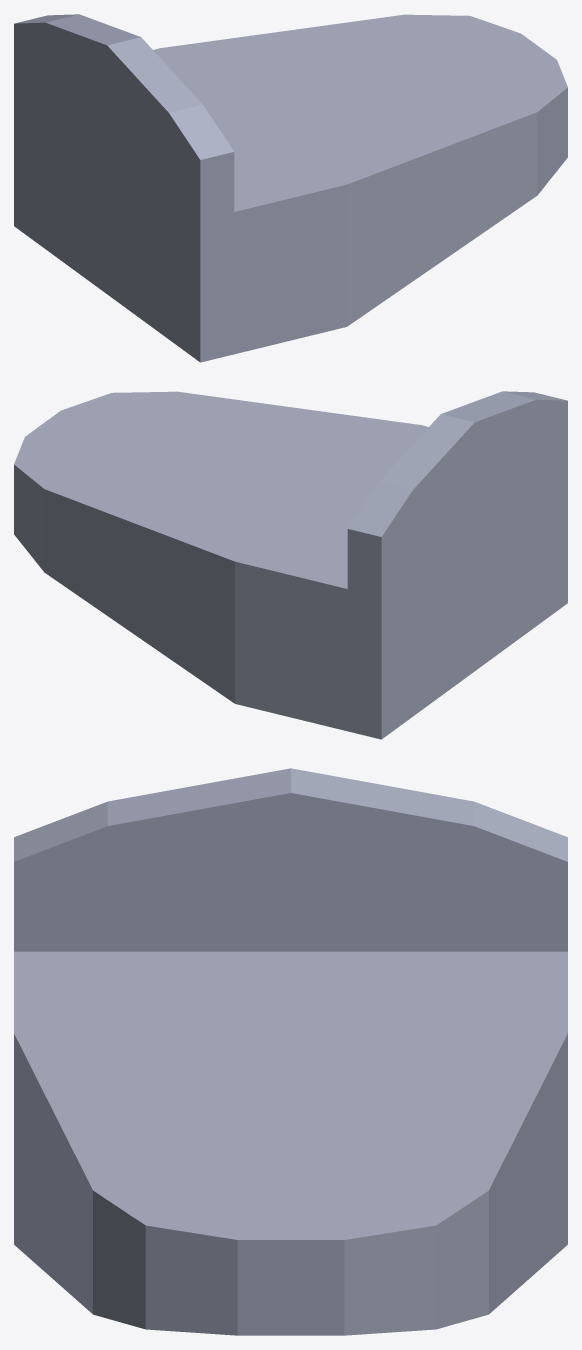
File: hip.obj
3 views of the same model, one above another, from view 1: azimuth 30°, elevation 25°; view 2: azimuth 150°, elevation 25°; view 3: azimuth 270°, elevation 25° (orthographic). The views are drawn at different scales.
Visible parts, largest first — view 1: Hip_Mesh_002-mesh; view 2: Hip_Mesh_002-mesh; view 3: Hip_Mesh_002-mesh.
Part boxes in pixels (x1,y1,x2,y2): Hip_Mesh_002-mesh: (14, 14, 567, 362); Hip_Mesh_002-mesh: (14, 391, 567, 739); Hip_Mesh_002-mesh: (14, 768, 567, 1335).
Size of the model in its own units: 0.1016 by 0.056 by 0.076.
